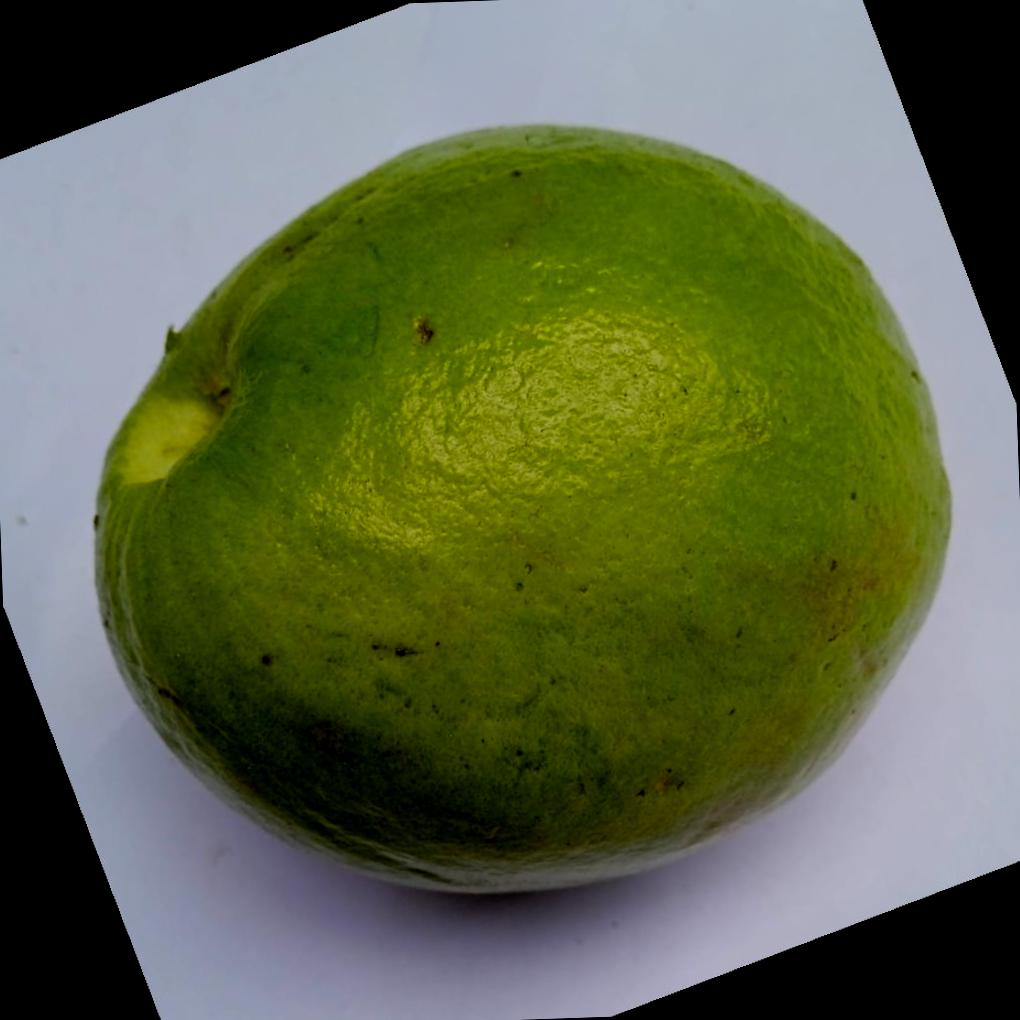FreshGuava: (90, 125, 954, 900)
